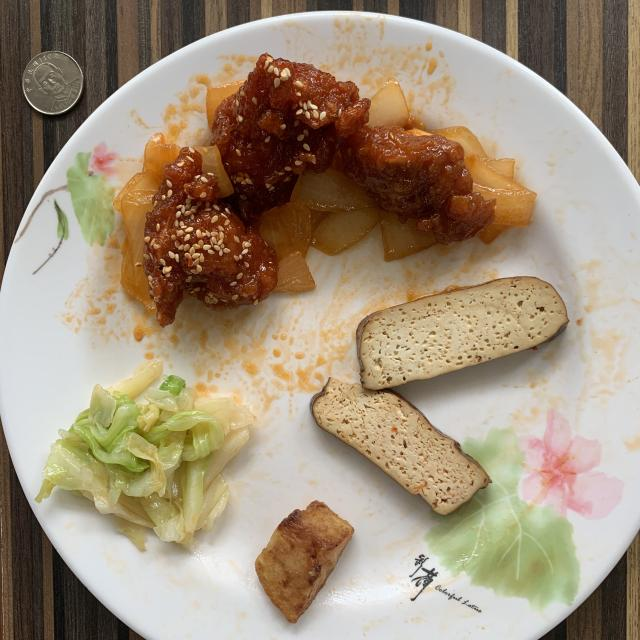cabbage: (36, 360, 255, 549)
coin: (22, 51, 84, 115)
firm tofu: (311, 276, 569, 514)
fried potato: (255, 501, 354, 624)
